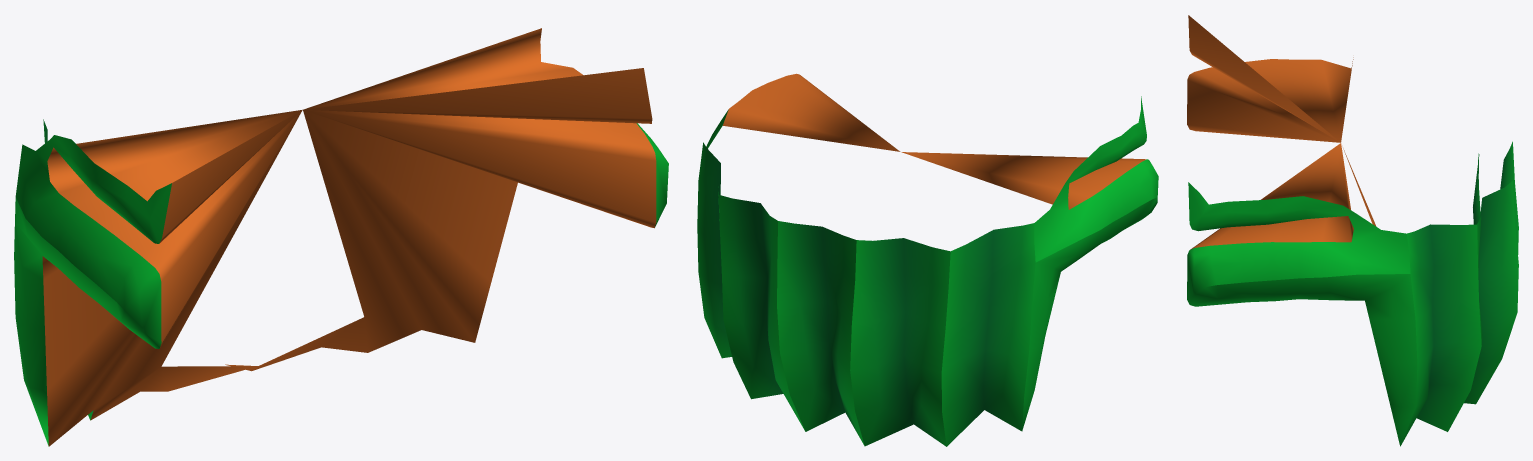
The model's file is Hair2_89.glb.
3 views of the same model, side by side, from view 1: azimuth 30°, elevation 25°; view 2: azimuth 150°, elevation 25°; view 3: azimuth 270°, elevation 25° (orthographic). The views are drawn at different scales.
Size of the model in its own units: 57.74 by 40.32 by 41.65.
